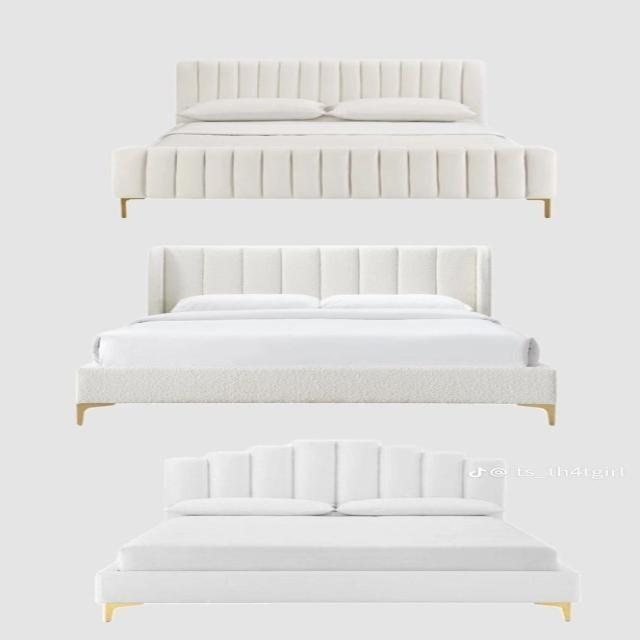obstacle: (93, 438, 580, 622), (74, 244, 558, 426), (110, 58, 558, 218)
